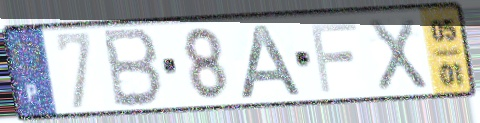7: (53, 30, 97, 112)
8: (180, 25, 232, 104)
A: (237, 21, 308, 101)
B: (102, 26, 166, 110)
F: (307, 19, 361, 96)
X: (365, 14, 431, 94)
